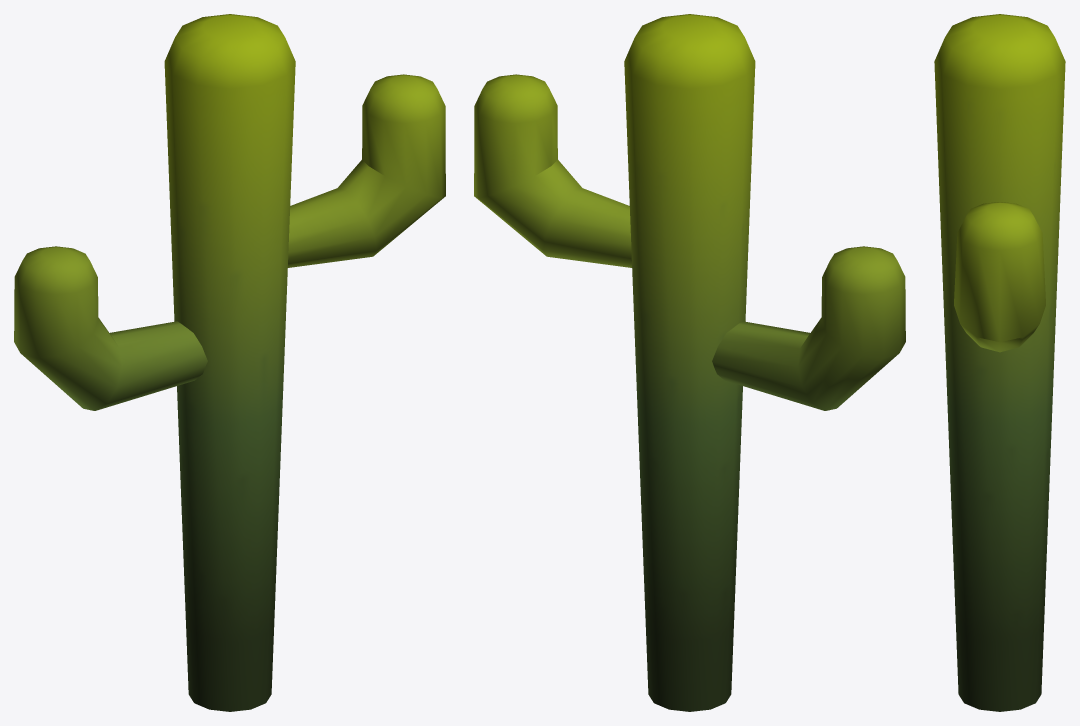
Rendered from Cactus1.fbx.
3 views of the same model, side by side, from view 1: azimuth 30°, elevation 25°; view 2: azimuth 150°, elevation 25°; view 3: azimuth 270°, elevation 25° (orthographic).
Parts seen in each view (by area): view 1: Cactus.002; view 2: Cactus.002; view 3: Cactus.002.
Boxes of the visible parts, x1,y1,x2,y2 form: Cactus.002: (14, 14, 445, 711); Cactus.002: (474, 14, 905, 711); Cactus.002: (934, 14, 1065, 711).
Size of the model in its own units: 348 by 528 by 94.13.
